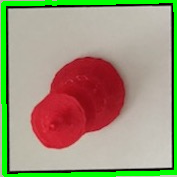Red Queen: (30, 52, 129, 151)
